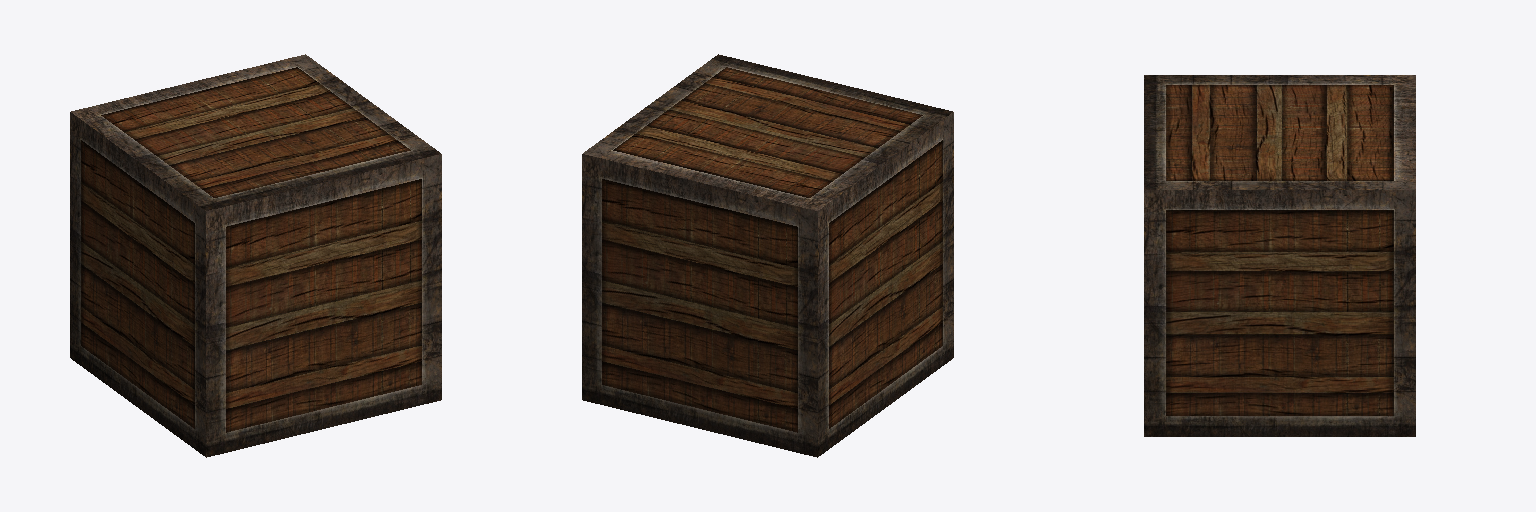
3 renders of one model, left to right at view 1: azimuth 30°, elevation 25°; view 2: azimuth 150°, elevation 25°; view 3: azimuth 270°, elevation 25°, orthographic.
Parts seen in each view (by area): view 1: cubotex; view 2: cubotex; view 3: cubotex.
Boxes of the visible parts, <box> form: cubotex: <box>70,54,441,457</box>; cubotex: <box>582,54,953,457</box>; cubotex: <box>1144,75,1415,436</box>.
Bounding box in the file's own units: 20 × 20 × 20.
Materials: 1 (1 with a texture image).